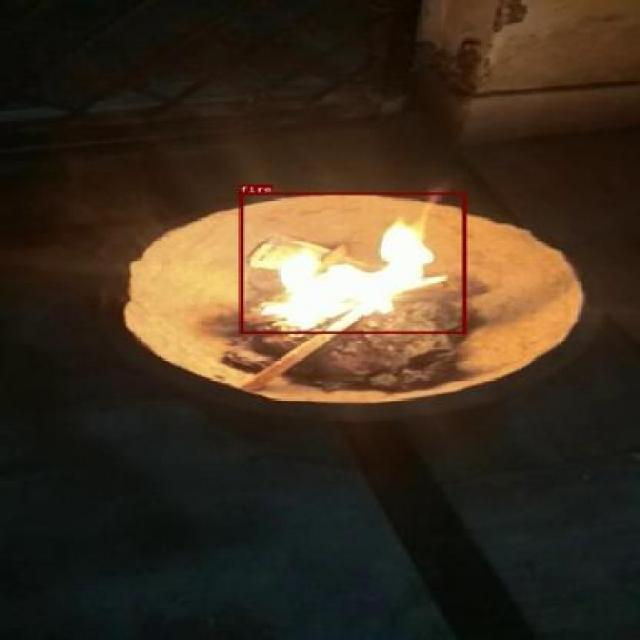Fire: (238, 192, 466, 334)
